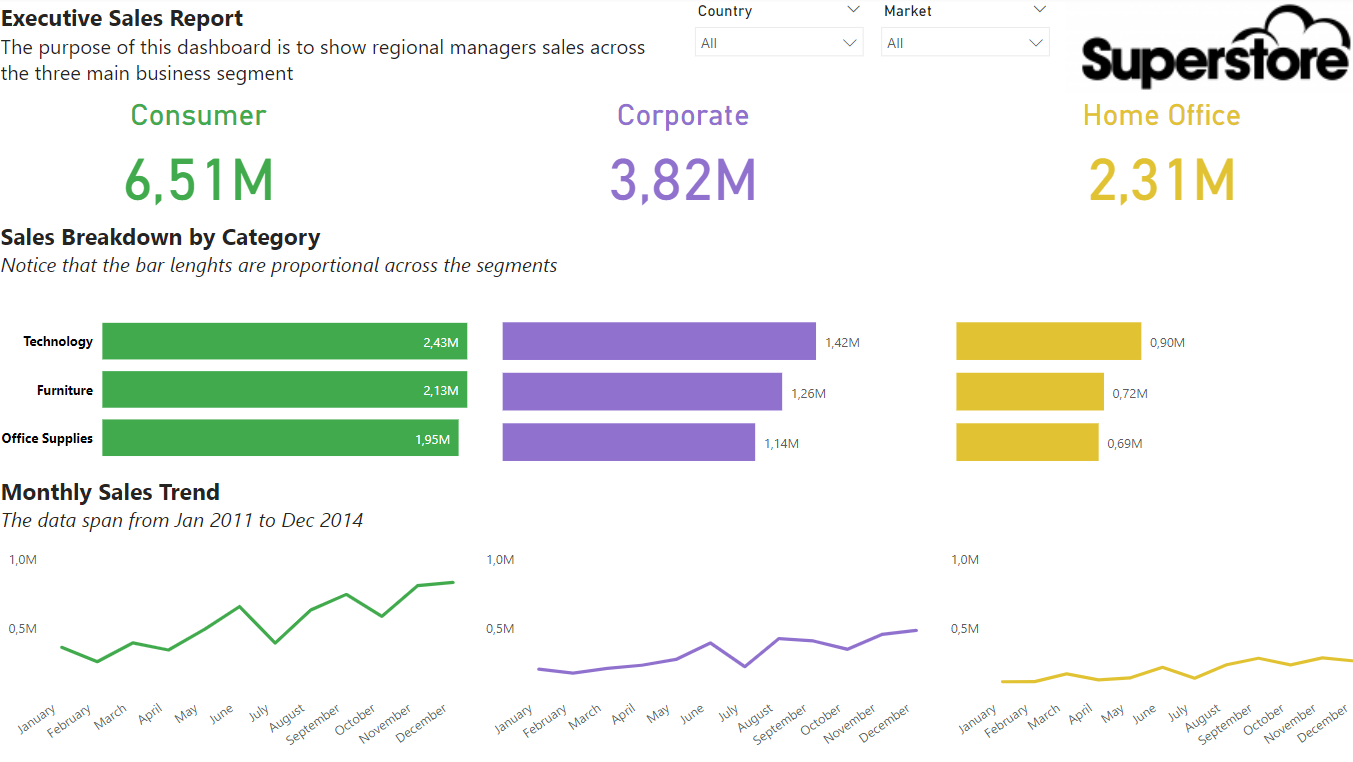

The page's visual inventory and layout, read from the dashboard file:
{"tool":"powerbi","page":{"name":"Page 1","canvas":[1280,720],"ordinal":0},"visuals":[{"type":"lineChart","fields":{"Y":["Sum(Orders.Sales)"],"Category":["Orders.Order Date.Variation.Date Hierarchy.Year","Orders.Order Date.Variation.Date Hierarchy.Quarter","Orders.Order Date.Variation.Date Hierarchy.Month","Orders.Order Date.Variation.Date Hierarchy.Day"]},"box":[0,510,444.2,209.8],"z":0},{"type":"textbox","box":[0,290,256,150],"z":1000},{"type":"textbox","box":[0,0,640.3,94.6],"z":2000},{"type":"slicer","fields":{"Values":["Orders.Country"]},"box":[640.3,0,176.9,94.6],"z":3000},{"type":"slicer","fields":{"Values":["Orders.Market"]},"box":[813,0,176.9,94.6],"z":4000},{"type":"image","box":[989.9,0,290.7,94.6],"z":5000},{"type":"card","title":"Consumer","fields":{"Values":["Sum(Orders.Sales)"]},"box":[0,94.6,378.4,108.3],"z":6000},{"type":"card","title":"Corporate","fields":{"Values":["Sum(Orders.Sales)"]},"box":[444.2,94.6,392.1,108.3],"z":7000},{"type":"card","title":"Home Office","fields":{"Values":["Sum(Orders.Sales)"]},"box":[888.4,94.6,392.1,108.3],"z":8000},{"type":"barChart","fields":{"Y":["Sum(Orders.Sales)"],"Category":["Orders.Category"]},"box":[0,272.8,444.2,179.6],"z":9000},{"type":"barChart","fields":{"Y":["Sum(Orders.Sales)"],"Category":["Orders.Category"]},"box":[467.5,290.7,420.9,149.4],"z":10000},{"type":"barChart","fields":{"Y":["Sum(Orders.Sales)"],"Category":["Orders.Category"]},"box":[888.4,290.7,392.1,149.4],"z":11000},{"type":"lineChart","fields":{"Y":["Sum(Orders.Sales)"],"Category":["Orders.Order Date.Variation.Date Hierarchy.Year","Orders.Order Date.Variation.Date Hierarchy.Quarter","Orders.Order Date.Variation.Date Hierarchy.Month","Orders.Order Date.Variation.Date Hierarchy.Day"]},"box":[444.2,510,430.5,209.8],"z":12000},{"type":"lineChart","fields":{"Y":["Sum(Orders.Sales)"],"Category":["Orders.Order Date.Variation.Date Hierarchy.Year","Orders.Order Date.Variation.Date Hierarchy.Quarter","Orders.Order Date.Variation.Date Hierarchy.Month","Orders.Order Date.Variation.Date Hierarchy.Day"]},"box":[874.7,510,405.8,209.8],"z":13000},{"type":"textbox","box":[0,202.9,1280.6,69.9],"z":14000},{"type":"textbox","box":[0,440.1,1280.6,69.9],"z":15000}]}

Visuals, with their boxes in screenshot pixels (x1, y1, x2, y2), scaled from the page's 1280x720 canvas onto the 1353x762 screenshot:
lineChart - Sum(Orders.Sales) x Orders.Order Date.Variation.Date Hierarchy.Year: box=[0, 540, 470, 761]
textbox: box=[0, 307, 271, 466]
textbox: box=[0, 0, 677, 100]
slicer - Orders.Country: box=[677, 0, 864, 100]
slicer - Orders.Market: box=[859, 0, 1046, 100]
image: box=[1046, 0, 1352, 100]
"Consumer" card: box=[0, 100, 400, 215]
"Corporate" card: box=[470, 100, 884, 215]
"Home Office" card: box=[939, 100, 1352, 215]
barChart - Sum(Orders.Sales) x Orders.Category: box=[0, 289, 470, 479]
barChart - Sum(Orders.Sales) x Orders.Category: box=[494, 308, 939, 466]
barChart - Sum(Orders.Sales) x Orders.Category: box=[939, 308, 1352, 466]
lineChart - Sum(Orders.Sales) x Orders.Order Date.Variation.Date Hierarchy.Year: box=[470, 540, 925, 761]
lineChart - Sum(Orders.Sales) x Orders.Order Date.Variation.Date Hierarchy.Year: box=[925, 540, 1352, 761]
textbox: box=[0, 215, 1352, 289]
textbox: box=[0, 466, 1352, 540]
